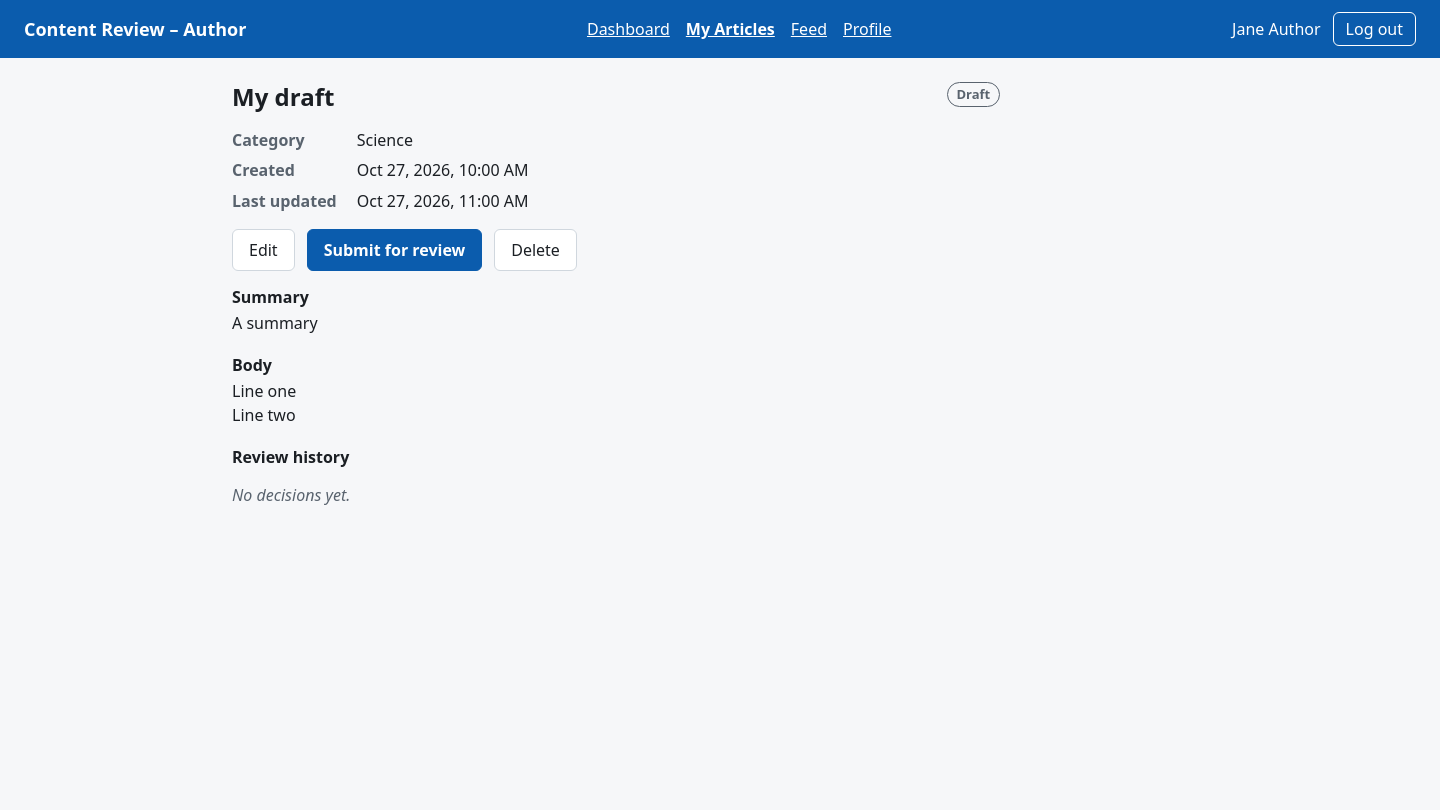
Test: deleting a draft › asks first, naming the draft, with Cancel focused
Step 1. Click the button with test id "article-delete" → point(536, 250), box left=494, top=229, right=577, bottom=271
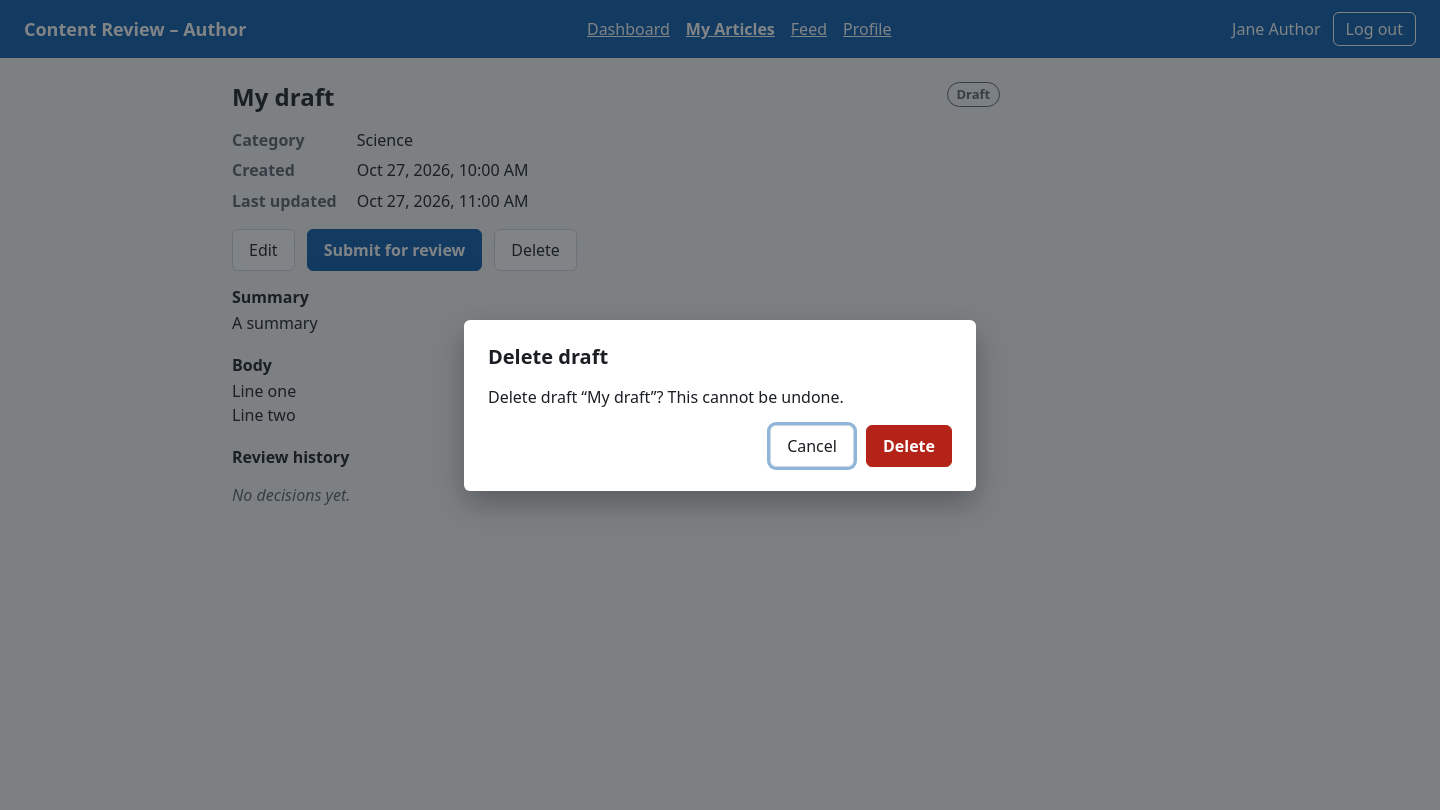
Expected: the text "Delete draft “My draft”? This cannot be undone." is shown, left=488, top=386, right=844, bottom=408
